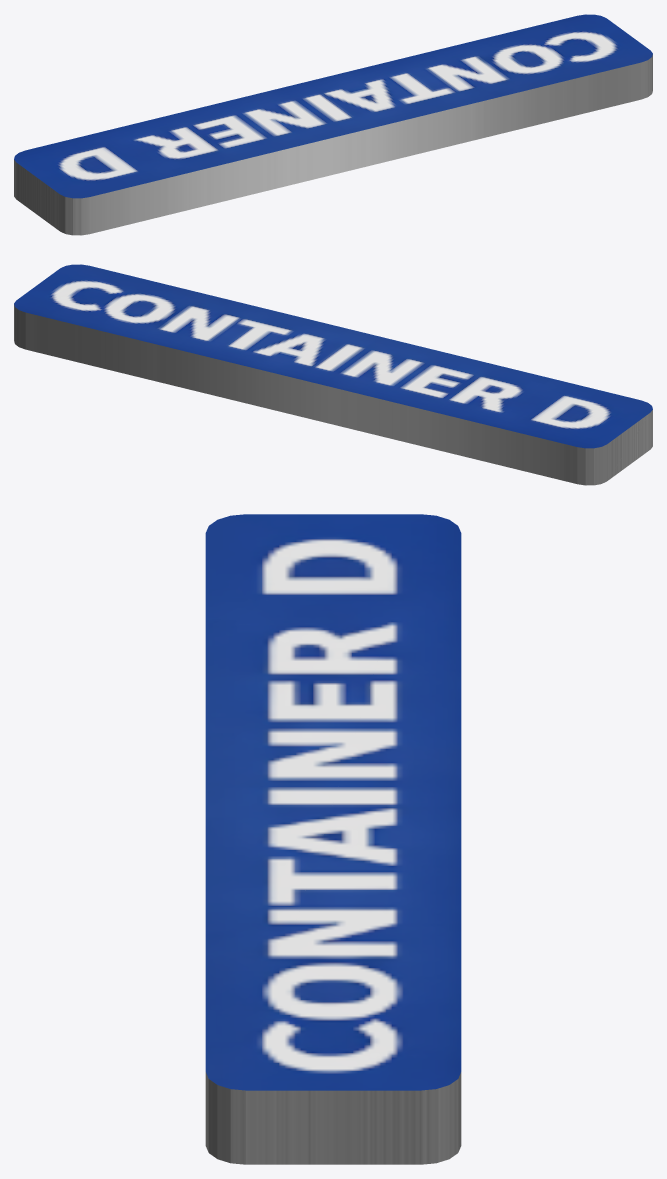
Rendered from Container D.fbx.
The picture shows the model from 3 angles, top to bottom: view 1: azimuth 30°, elevation 25°; view 2: azimuth 150°, elevation 25°; view 3: azimuth 270°, elevation 25°; orthographic projection. The views are drawn at different scales.
Visible parts, largest first — view 1: Cube.001, Cube; view 2: Cube.001, Cube; view 3: Cube.001, Cube.
Part boxes in pixels (x1=…): Cube.001: x1=14, y1=14, x2=652, y2=198; Cube: x1=14, y1=54, x2=652, y2=235; Cube.001: x1=14, y1=264, x2=652, y2=448; Cube: x1=14, y1=304, x2=652, y2=485; Cube.001: x1=205, y1=514, x2=461, y2=1090; Cube: x1=205, y1=1072, x2=461, y2=1164.
Bounding box in the file's own units: 5 × 0.3 × 0.9365.
Materials: 2 (2 with a texture image).
